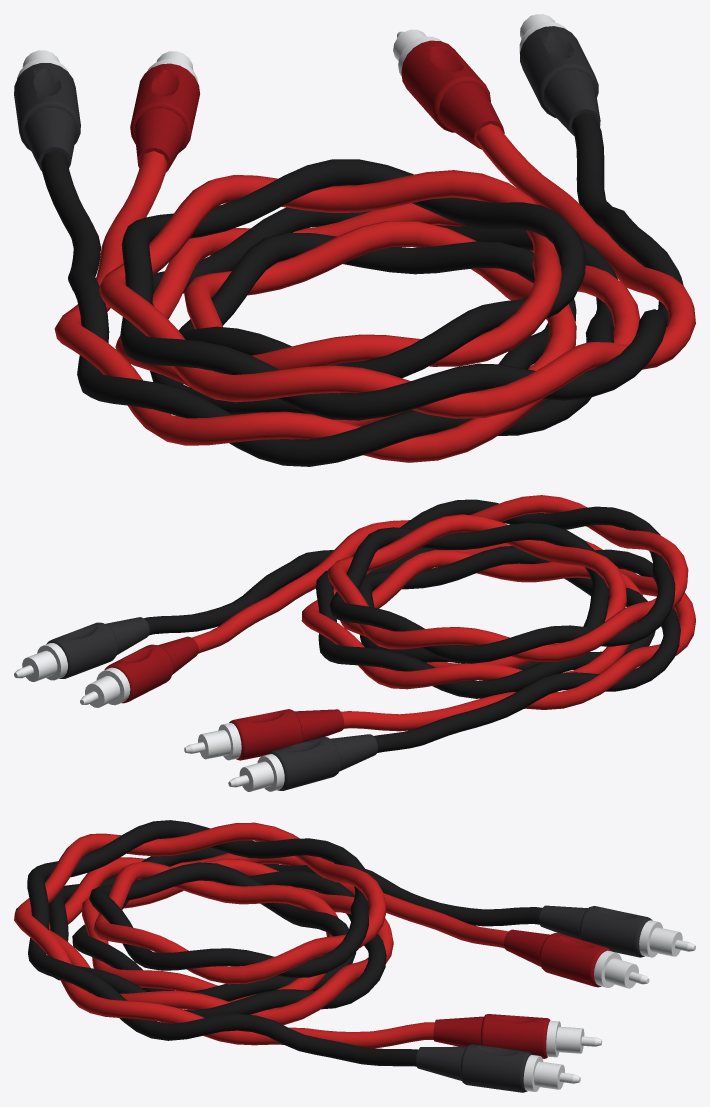
The model's file is rca-cable-4.glb.
3 views of the same model, one above another, from view 1: azimuth 30°, elevation 25°; view 2: azimuth 150°, elevation 25°; view 3: azimuth 270°, elevation 25° (orthographic). The views are drawn at different scales.
Visible parts, largest first — view 1: rca-cable; view 2: rca-cable; view 3: rca-cable.
Part boxes in pixels (<box>): rca-cable: <box>14,14,695,466</box>; rca-cable: <box>14,495,695,791</box>; rca-cable: <box>14,820,695,1092</box>.
Size of the model in its own units: 0.1804 by 0.0242 by 0.2244.
